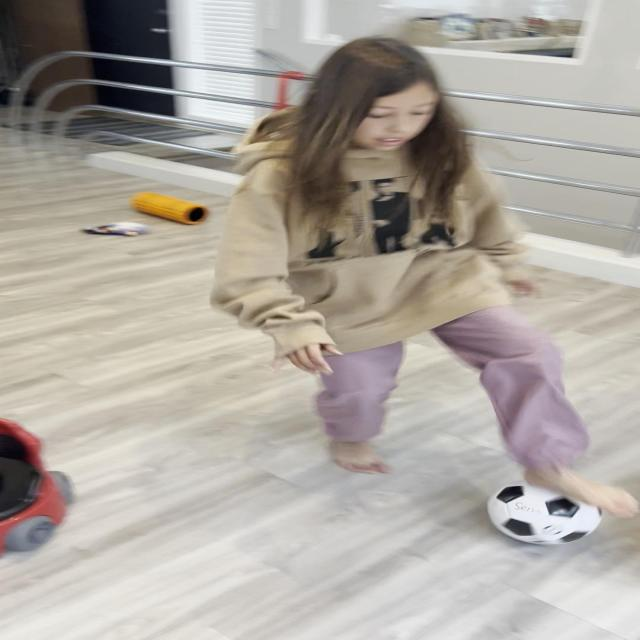Soccer Ball: (489, 480, 601, 545)
